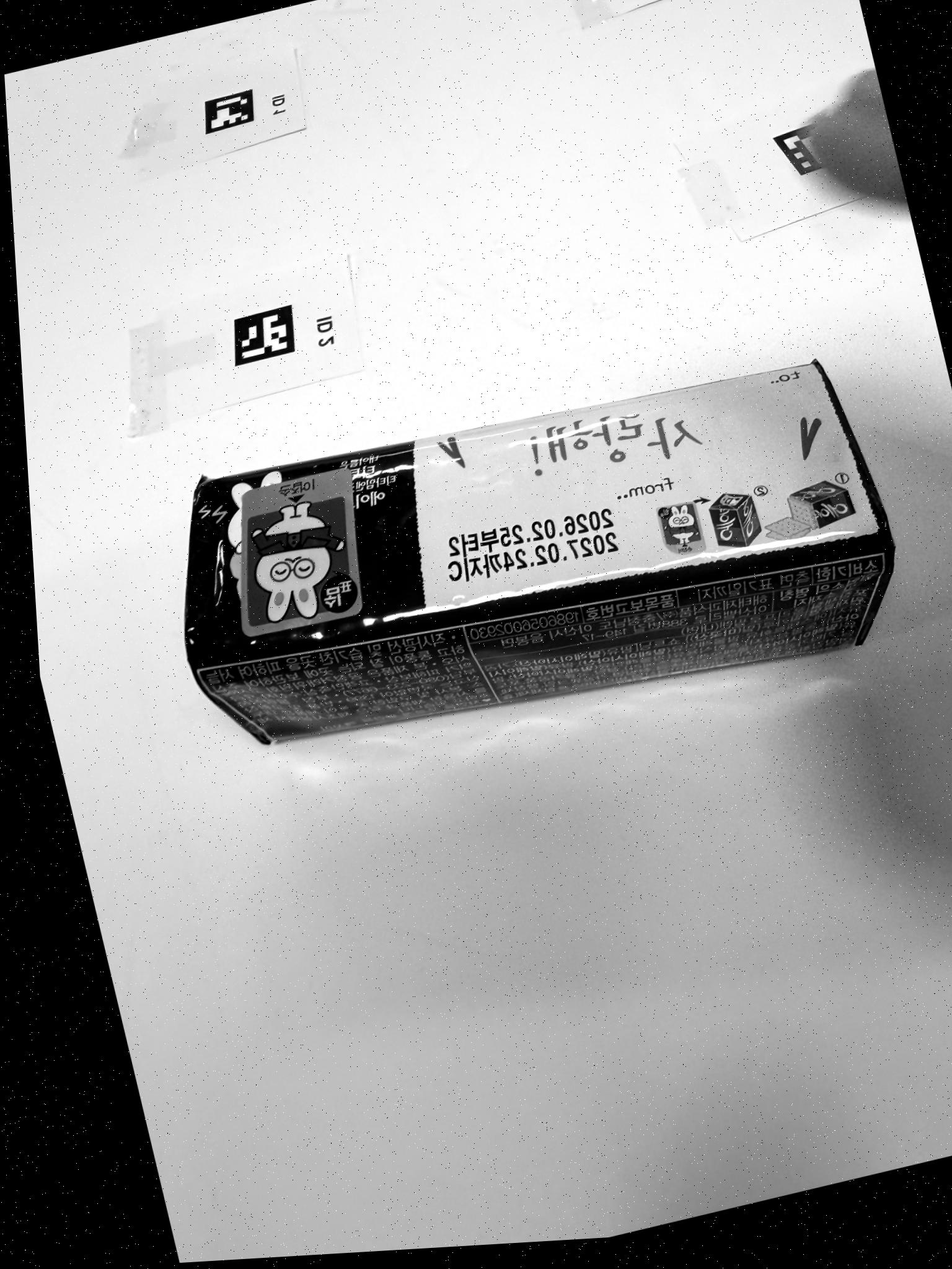cracker_ace: (185, 360, 894, 743)
